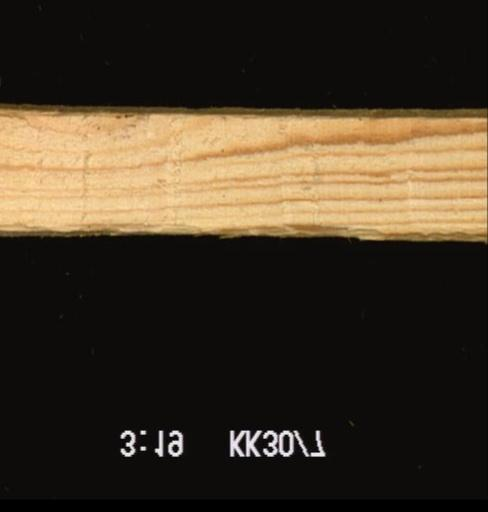wave: (0, 220, 486, 242), (6, 102, 139, 134)
